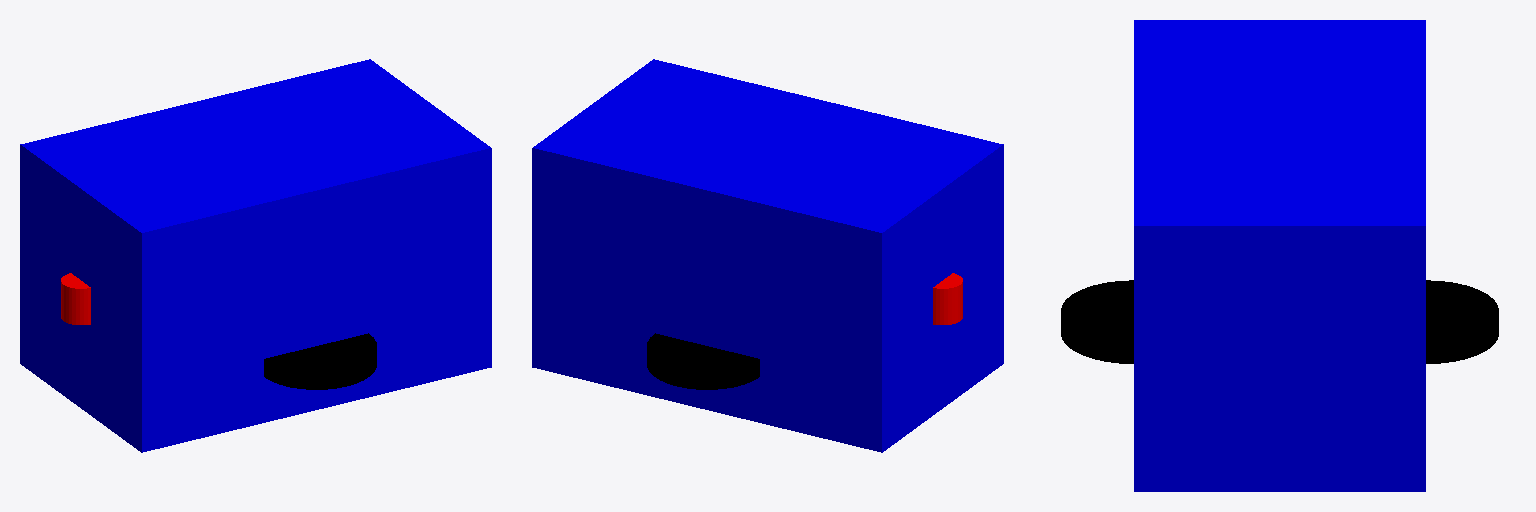
The robot description file, URDF, robot "ky3":
<?xml version="1.0"?>
<robot name="ky3">

  <!-- Base link -->
  <link name="base_link">
    <visual>
      <geometry>
        <box size="1 0.6 0.6"/>
      </geometry>
      <material name="blue">
        <color rgba="0 0 1 1"/>
      </material>
    </visual>
    <collision>
      <geometry>
        <box size="1 0.6 0.6"/>
      </geometry>
    </collision>
    <inertial>
      <mass value="50"/>
      <inertia ixx="5.2" ixy="0.014" ixz="0.33" iyy="7.94" iyz="0.26" izz="6.91"/>
      <origin xyz="0 0 0" rpy="0 0 0"/>
    </inertial>

    <neutrally_buoyant>0</neutrally_buoyant>
    <volume>0.36</volume>
    <box>
      <width>0.6</width>
      <length>1.0</length>
      <height>0.6</height>
    </box>
    <center_of_buoyancy>
      0.0 0.0 0.3
    </center_of_buoyancy>
    <hydrodynamic_model>
    <type>fossen</type>
    <!-- Added mass: see p.28 in Berg2012 -->
    <added_mass>
      20   0    0    0   0   0
      0  160    0    0   0   0
      0    0  200    0   0   0
      0    0    0   10   0   0
      0    0    0    0  12   0
      0    0    0    0   0  15
    </added_mass>
    <!-- Linear damping: see p.31 in Berg2012 -->
    <linear_damping>
      -40 -100 -150 -8 -10 -12
    </linear_damping>
    <!-- Non-linear damping: see p.30 in Berg2012 -->
    <quadratic_damping>
      -50 -200 -250 -15 -20 -25
    </quadratic_damping>
    </hydrodynamic_model>
  </link>

  <!-- Left wheel -->
  <link name="left_wheel">
    <visual>
      <geometry>
        <cylinder radius="0.15" length="0.05"/>
      </geometry>
      <material name="black">
        <color rgba="0 0 0 1"/>
      </material>
    </visual>
    <collision>
      <geometry>
        <cylinder radius="0.15" length="0.05"/>
      </geometry>
    </collision>
    <inertial>
      <mass value="0.5"/>
      <inertia ixx="0.01" ixy="0" ixz="0" iyy="0.01" iyz="0" izz="0.01"/>
      <origin xyz="0 0 0" rpy="0 0 0"/>
    </inertial>
  </link>

  <!-- Right wheel -->
  <link name="right_wheel">
    <visual>
      <geometry>
        <cylinder radius="0.15" length="0.05"/>
      </geometry>
      <material name="black">
        <color rgba="0 0 0 1"/>
      </material>
    </visual>
    <collision>
      <geometry>
        <cylinder radius="0.15" length="0.05"/>
      </geometry>
    </collision>
    <inertial>
      <mass value="0.5"/>
      <inertia ixx="0.01" ixy="0" ixz="0" iyy="0.01" iyz="0" izz="0.01"/>
      <origin xyz="0 0 0" rpy="0 0 0"/>
    </inertial>
  </link>

  <!-- Thruster -->
  <link name="thruster_link">
    <visual>
      <geometry>
        <cylinder radius="0.05" length="0.1"/>
      </geometry>
      <material name="red">
        <color rgba="1 0 0 1"/>
      </material>
    </visual>
    <collision>
      <geometry>
        <cylinder radius="0.05" length="0.1"/>
      </geometry>
    </collision>
    <inertial>
      <mass value="0.5"/>
      <inertia ixx="0.001" ixy="0" ixz="0" iyy="0.001" iyz="0" izz="0.001"/>
      <origin xyz="0 0 0" rpy="0 0 0"/>
    </inertial>
  </link>

  <!-- Left wheel joint -->
  <joint name="left_wheel_joint" type="continuous">
    <parent link="base_link"/>
    <child link="left_wheel"/>
    <origin xyz="0 0.3 -0.15" rpy="0 0 0"/>
    <axis xyz="0 1 0"/>
  </joint>

  <!-- Right wheel joint -->
  <joint name="right_wheel_joint" type="continuous">
    <parent link="base_link"/>
    <child link="right_wheel"/>
    <origin xyz="0 -0.3 -0.15" rpy="0 0 0"/>
    <axis xyz="0 1 0"/>
  </joint>

  <!-- Thruster joint -->
  <joint name="thruster_joint" type="fixed">
    <parent link="base_link"/>
    <child link="thruster_link"/>
    <origin xyz="-0.5 0 0" rpy="0 0 0"/>
  </joint>
 
  <gazebo>
      <plugin name="uuv_plugin" filename="libuuv_underwater_object_ros_plugin.so">
        <fluid_density>1028.0</fluid_density>
        <flow_velocity_topic>hydrodynamics/current_velocity</flow_velocity_topic>
      </plugin>
  </gazebo>
</robot>

--- Facts derived from the render (not from the file) ---
The picture shows the robot from 3 angles, left to right: view 1: azimuth 30°, elevation 25°; view 2: azimuth 150°, elevation 25°; view 3: azimuth 270°, elevation 25°; orthographic projection.
Robot: ky3 — 4 links, 3 joints (2 continuous, 1 fixed); root link base_link; default pose: every joint at zero.
Visible links, largest first — view 1: base_link, right_wheel, thruster_link; view 2: base_link, left_wheel, thruster_link; view 3: base_link, left_wheel, right_wheel.
Boxes of the visible links, box(x1,y1,x2,y2) form: base_link: box(20, 59, 491, 452); right_wheel: box(264, 333, 376, 389); thruster_link: box(61, 273, 90, 324); base_link: box(532, 59, 1003, 452); left_wheel: box(647, 333, 759, 389); thruster_link: box(933, 273, 962, 324); base_link: box(1134, 20, 1425, 491); left_wheel: box(1426, 280, 1498, 363); right_wheel: box(1061, 280, 1133, 363).
Bounding box of the posed robot: 1.05 × 0.9 × 0.6 m (x, y, z).
Geometry: primitives only (box / cylinder / sphere), no mesh files.
